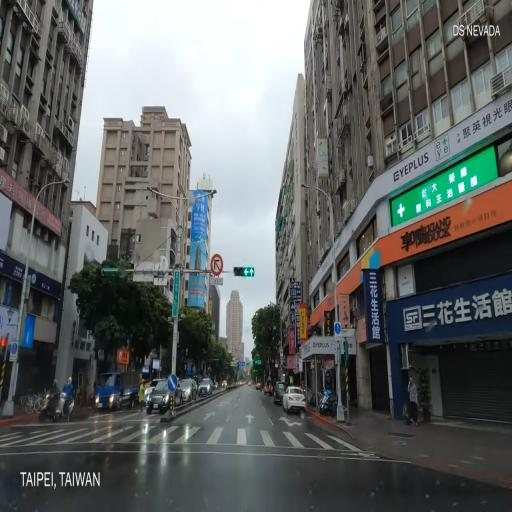Car: (94, 369, 142, 410), (146, 379, 182, 416), (144, 378, 170, 406), (174, 378, 198, 404), (283, 386, 306, 412), (274, 380, 292, 405), (198, 376, 214, 397), (264, 380, 274, 398), (221, 379, 227, 388), (213, 381, 219, 390), (256, 382, 262, 390), (247, 380, 252, 386), (238, 382, 241, 386)
